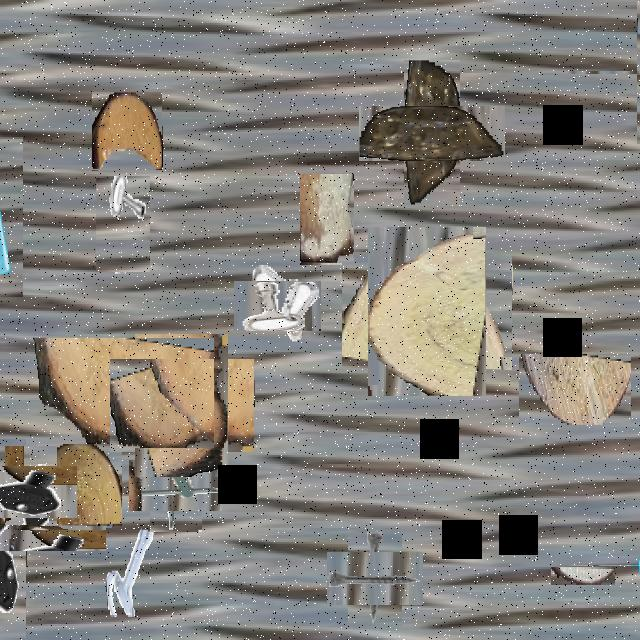glass: (0, 137, 23, 297), (602, 528, 640, 602), (602, 36, 640, 109)
metal: (338, 540, 412, 616), (140, 449, 212, 522), (96, 176, 150, 272), (242, 271, 312, 341), (0, 456, 67, 528), (106, 528, 156, 617)
plastic: (382, 83, 482, 184), (0, 482, 69, 594)
wood: (355, 239, 499, 383), (30, 338, 214, 448), (123, 346, 241, 465), (519, 354, 631, 425), (38, 444, 122, 526), (92, 92, 162, 170), (300, 174, 354, 263), (551, 567, 615, 585)
